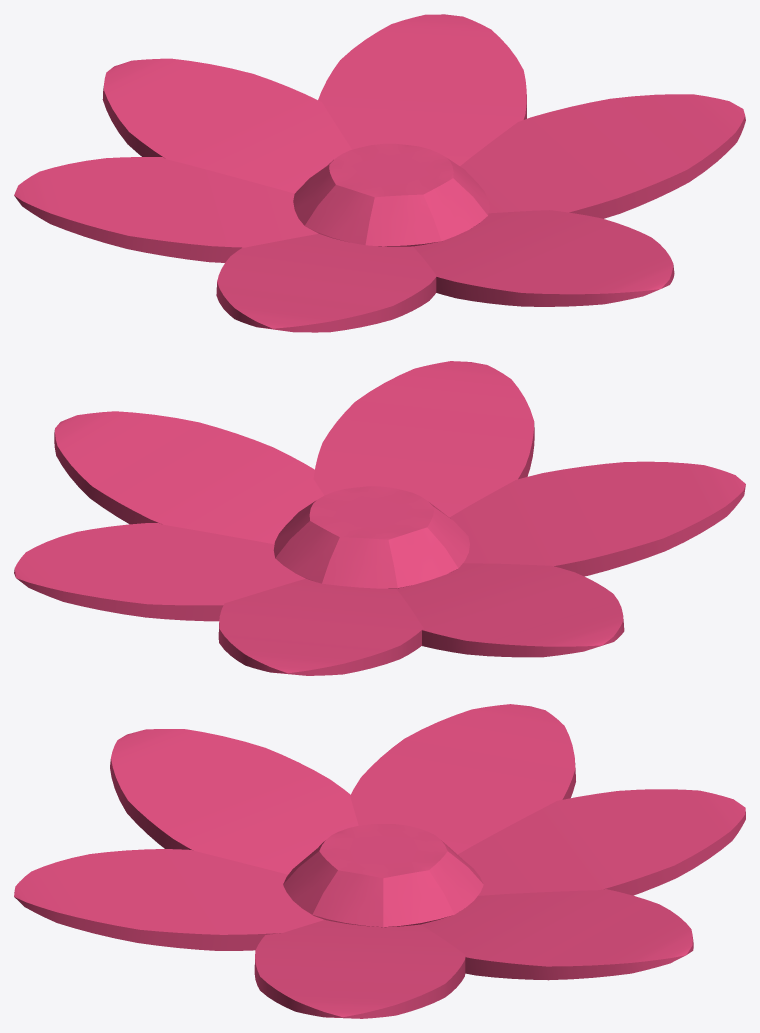
The model's file is Flower.fbx.
The picture shows the model from 3 angles, top to bottom: view 1: azimuth 30°, elevation 25°; view 2: azimuth 150°, elevation 25°; view 3: azimuth 270°, elevation 25°; orthographic projection.
Visible parts, largest first — view 1: Leaf.007; view 2: Leaf.007; view 3: Leaf.007.
Part boxes in pixels (left/top/right/bottom): Leaf.007: left=14, top=14, right=745, bottom=332; Leaf.007: left=14, top=361, right=745, bottom=675; Leaf.007: left=14, top=704, right=745, bottom=1018.
Size of the model in its own units: 107 by 11.22 by 106.
